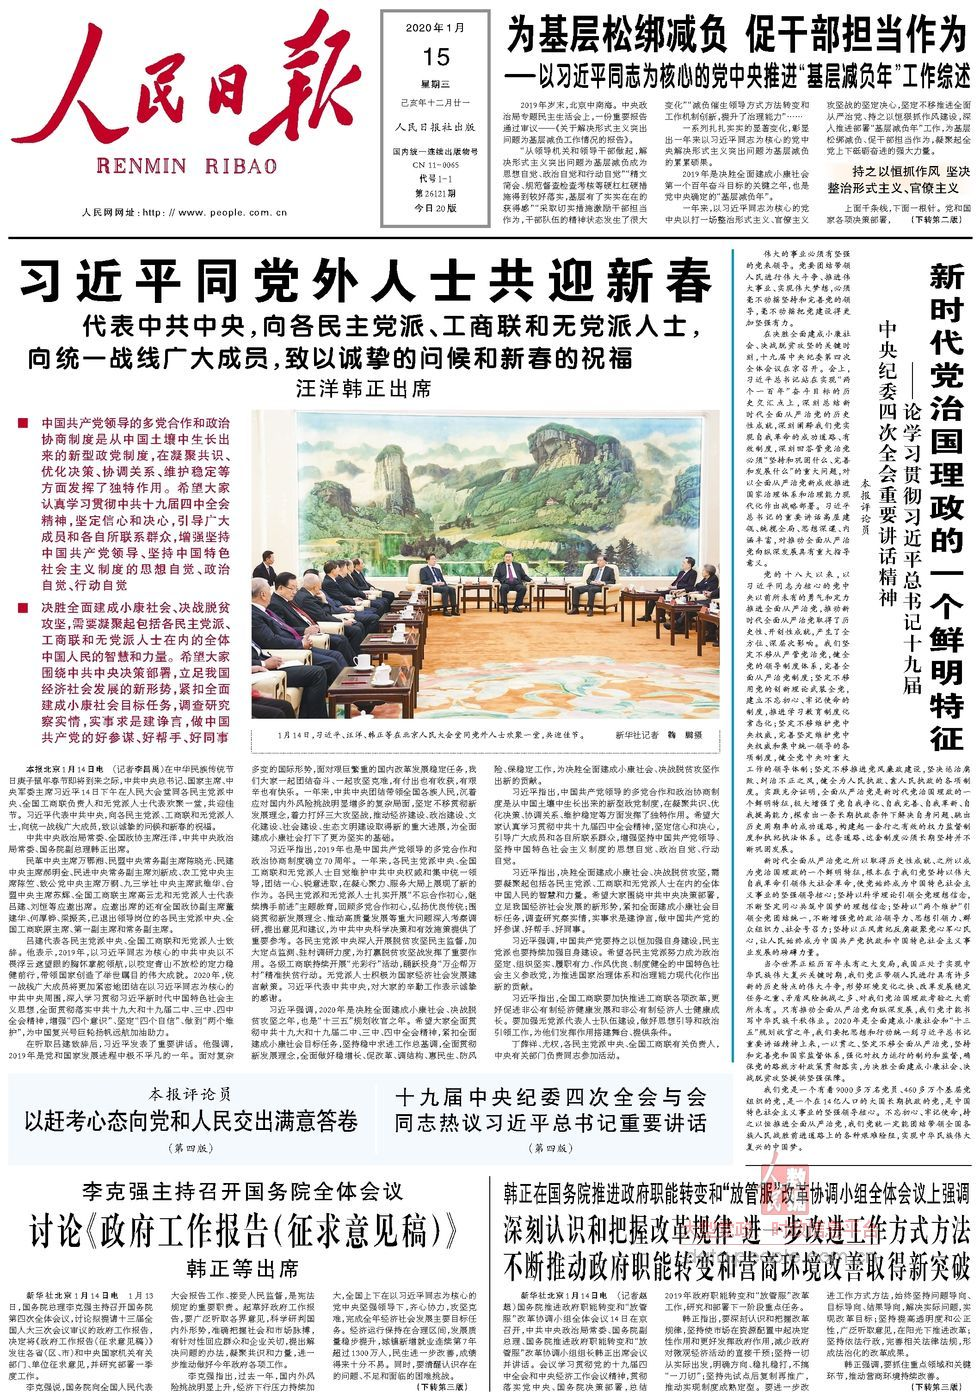pic: (246, 403, 725, 726)
